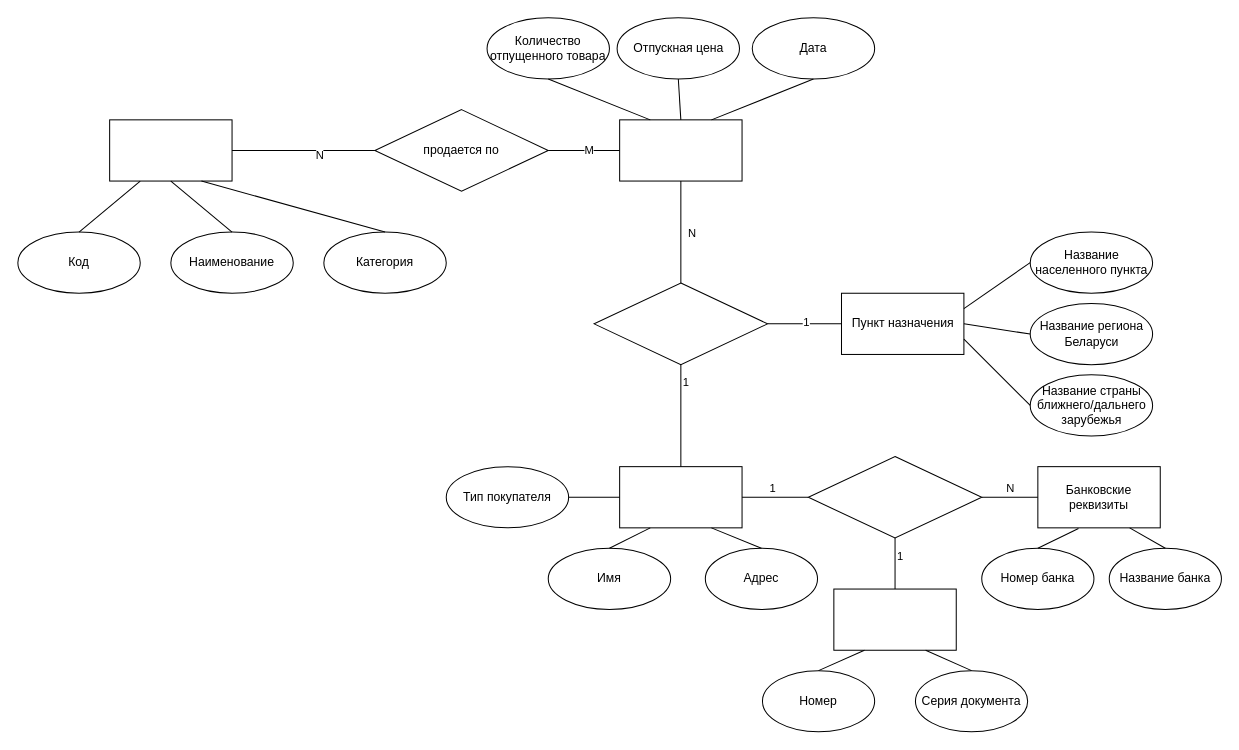
The diagram is 1239 pixels wide and 750 high, and some of its shapes have lost their labels. Here are the shapes that lost their labels. From the top down, the box of each, then its label:
(109, 119, 232, 181): Товар
(619, 119, 742, 181): Накладная
(593, 282, 768, 365): содержит данные о
(619, 466, 742, 528): Покупатель
(807, 455, 982, 538): имеет
(833, 588, 956, 650): Паспорт
